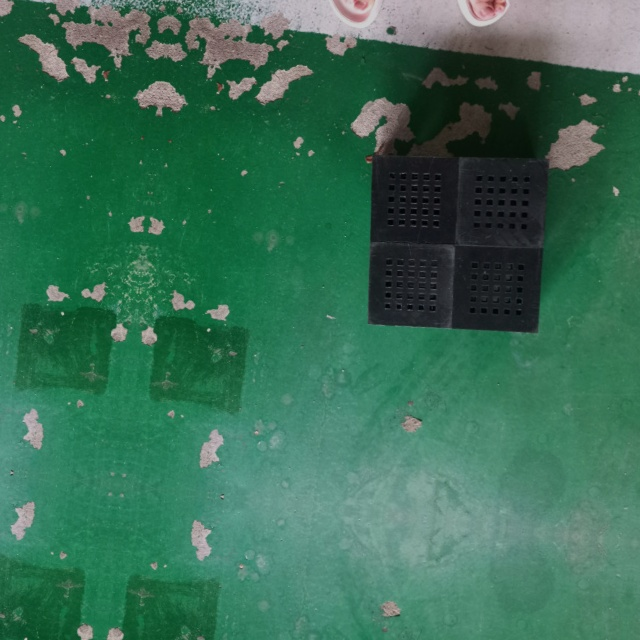pallet: (362, 147, 555, 340)
